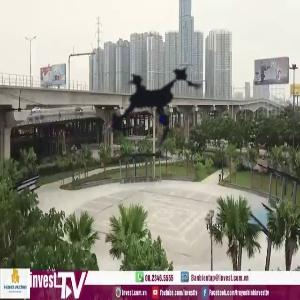drone: (58, 7, 248, 197)
